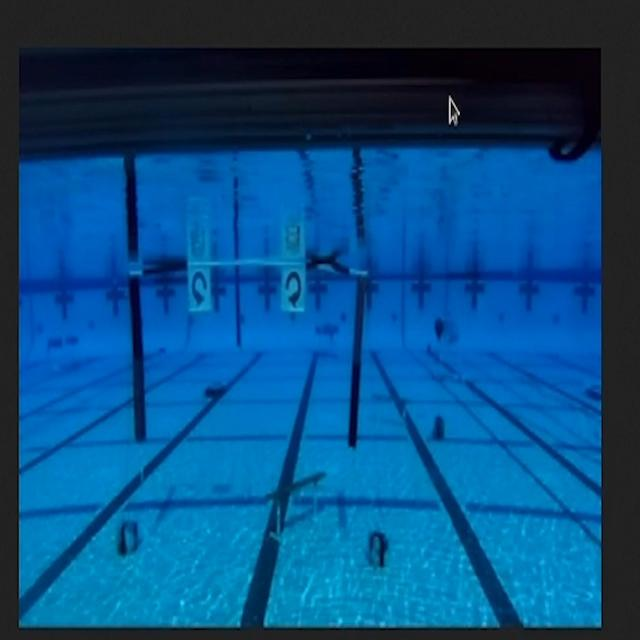Gate: (114, 245, 379, 468), (250, 462, 344, 544)
